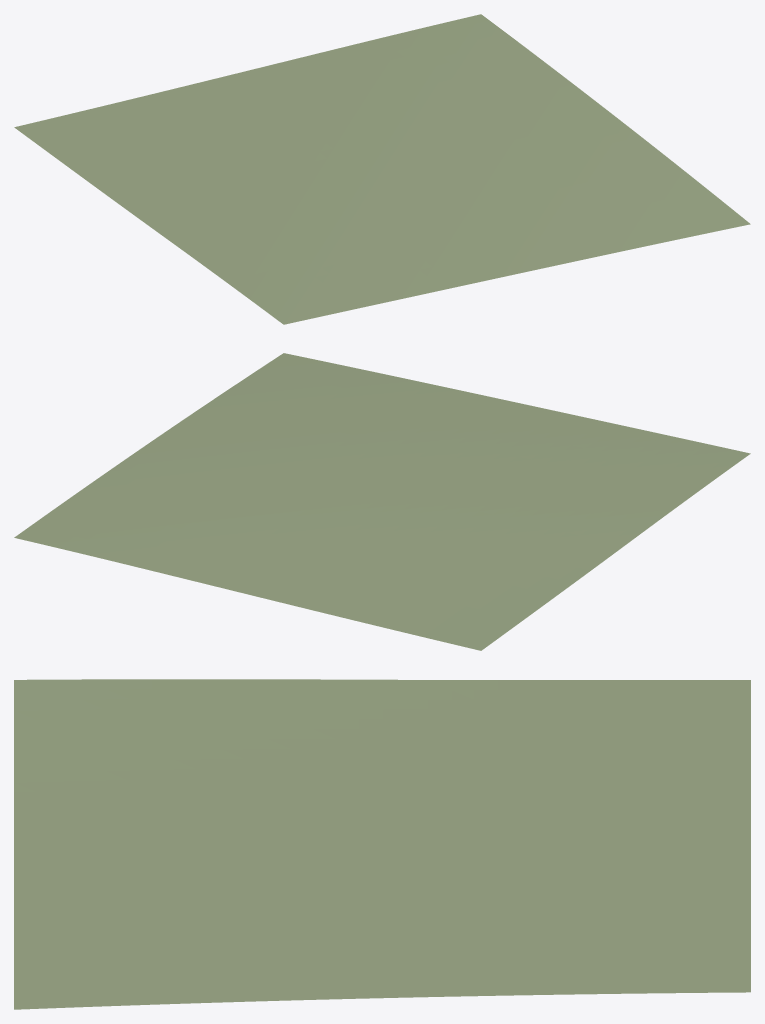
File: desert-2-18.glb
3 views of the same model, one above another, from view 1: azimuth 30°, elevation 25°; view 2: azimuth 150°, elevation 25°; view 3: azimuth 270°, elevation 25° (orthographic). The views are drawn at different scales.
Visible parts, largest first — view 1: desert-2-18; view 2: desert-2-18; view 3: desert-2-18.
Boxes of the visible parts, x1=… form: desert-2-18: x1=14, y1=14, x2=750, y2=324; desert-2-18: x1=14, y1=353, x2=750, y2=650; desert-2-18: x1=14, y1=679, x2=750, y2=1009.
Size of the model in its own units: 512 by 14.63 by 512.
